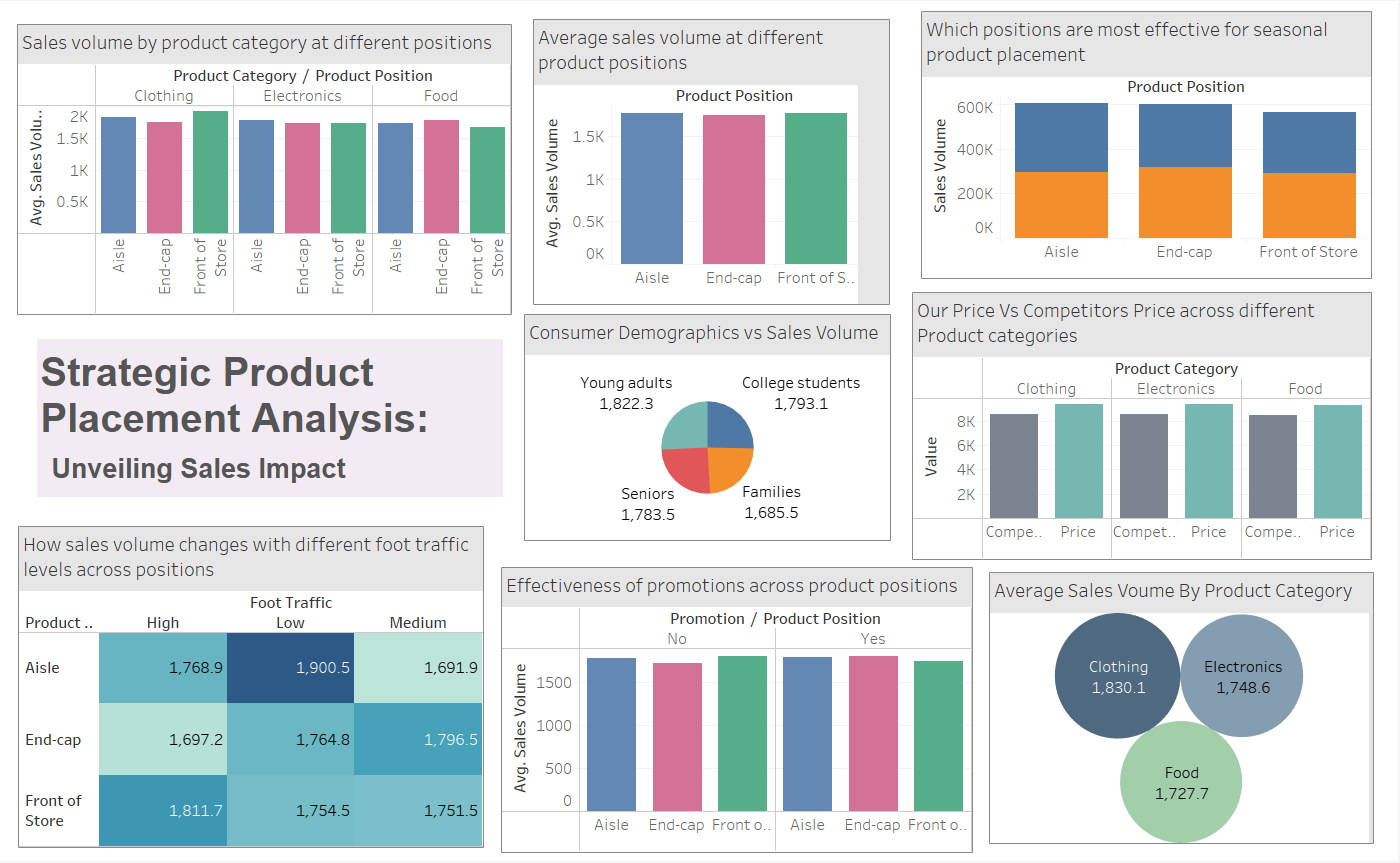

Layout of this report page (visuals, bound fields, positions):
{"tool":"tableau","page":{"name":"Dashboard 1","canvas":[1000,1000],"units":"permille","ordinal":0},"visuals":[{"type":"worksheet","title":"Effective seasonal product palcements","mark":"Automatic","rows":["Sales Volume"],"cols":["Product Position"],"box":[659.3,11.6,322.1,311.6]},{"type":"worksheet","title":"Avg sales volume vs Product Positions","mark":"Automatic","rows":["Sales Volume"],"cols":["Product Position"],"box":[382.1,20.9,255,332.6]},{"type":"worksheet","title":"Sales Volume by product category at different positions","mark":"Automatic","rows":["Sales Volume"],"cols":["Product Category","Product Position"],"box":[13.6,26.7,353.6,338.4]},{"type":"worksheet","title":"Price difference","mark":"Automatic","cols":["Product Category"],"box":[652.9,338.4,328.6,311.6]},{"type":"worksheet","title":"Consumer Demographics vs Sales","mark":"Pie","box":[375.7,363.9,262.1,263.9]},{"type":"text","box":[27.9,393,332.9,183.7]},{"type":"worksheet","title":"Sales volume change with traffic levels across positions","mark":"Automatic","rows":["Product Position"],"cols":["Foot Traffic"],"box":[14.3,610.5,332.9,374.4]},{"type":"worksheet","title":"Effective promotional products placement","mark":"Automatic","rows":["Sales Volume"],"cols":["Promotion","Product Position"],"box":[359.3,658.1,337.1,332.6]},{"type":"worksheet","title":"Avg sales volume vs Product category","mark":"Circle","box":[707.9,664,275,316.3]}]}

Visuals, with their boxes on the dashboard's canvas, which has no fixed pixel size, in thousandths of its width and height (x1, y1, x2, y2). These are canvas units, not pixel positions in the 1400x863 screenshot, which may show the page scaled, cropped or inside an application window:
"Effective seasonal product palcements" worksheet: BBox(659, 12, 981, 323)
"Avg sales volume vs Product Positions" worksheet: BBox(382, 21, 637, 354)
"Sales Volume by product category at different positions" worksheet: BBox(14, 27, 367, 365)
"Price difference" worksheet: BBox(653, 338, 982, 650)
"Consumer Demographics vs Sales" worksheet (Pie marks): BBox(376, 364, 638, 628)
text: BBox(28, 393, 361, 577)
"Sales volume change with traffic levels across positions" worksheet: BBox(14, 610, 347, 985)
"Effective promotional products placement" worksheet: BBox(359, 658, 696, 991)
"Avg sales volume vs Product category" worksheet (Circle marks): BBox(708, 664, 983, 980)
